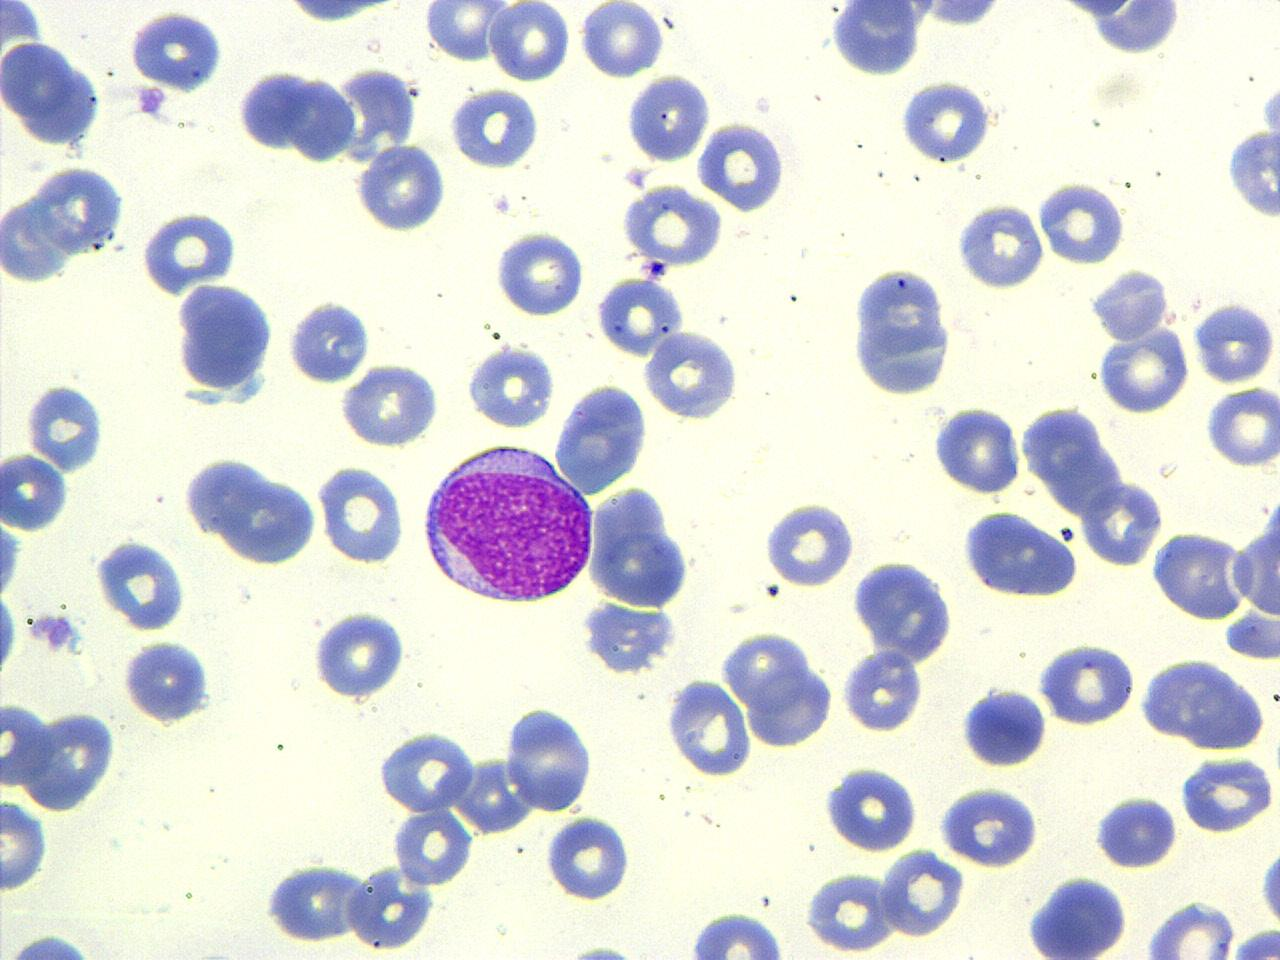Platelets: (138, 204, 243, 294), (352, 141, 449, 234), (128, 8, 231, 93), (285, 295, 374, 385), (1191, 297, 1277, 387), (0, 930, 106, 960), (1255, 840, 1280, 936), (0, 520, 23, 598), (0, 590, 19, 676), (44, 612, 78, 654), (568, 940, 632, 960), (26, 611, 62, 645), (135, 83, 169, 118), (622, 165, 648, 192), (490, 193, 514, 218), (647, 259, 668, 279), (1059, 522, 1075, 542)
RBC: (190, 458, 323, 570), (502, 702, 596, 812), (1146, 525, 1248, 623), (314, 462, 407, 566), (310, 605, 408, 703), (93, 533, 188, 634), (664, 675, 754, 780), (1035, 636, 1135, 730), (140, 204, 242, 296), (620, 182, 726, 268), (939, 783, 1044, 868), (374, 729, 478, 814), (694, 118, 787, 213), (343, 861, 439, 953), (820, 764, 920, 852), (1095, 325, 1193, 414), (126, 7, 226, 94), (494, 227, 588, 319), (931, 404, 1022, 498), (446, 85, 543, 173), (1178, 750, 1276, 836), (624, 70, 712, 164), (464, 343, 558, 431), (1078, 474, 1164, 569), (802, 869, 897, 955), (542, 812, 632, 902), (878, 846, 966, 938), (1037, 179, 1129, 266), (594, 272, 687, 357), (1190, 298, 1276, 386), (359, 144, 449, 228), (839, 647, 924, 735), (578, 0, 666, 81), (390, 803, 473, 888), (488, 1, 571, 84), (1203, 382, 1279, 470), (1140, 899, 1238, 959), (1, 450, 72, 530), (422, 0, 505, 63), (1, 795, 50, 895), (1, 698, 54, 790)
WBC: (0, 0, 682, 329), (414, 435, 598, 610), (1, 158, 130, 294), (178, 450, 322, 568), (583, 476, 695, 616), (722, 624, 842, 754), (848, 262, 958, 398), (822, 0, 1012, 78), (172, 278, 279, 409), (0, 23, 106, 152), (1136, 654, 1270, 754), (850, 555, 958, 668), (552, 379, 653, 496), (958, 506, 1082, 600), (21, 702, 122, 812), (504, 702, 596, 814), (314, 460, 408, 567), (1022, 871, 1134, 960), (337, 358, 444, 451), (640, 326, 743, 422), (1223, 67, 1280, 239), (310, 605, 410, 703), (663, 674, 755, 780), (1229, 472, 1280, 660), (260, 858, 366, 948), (936, 782, 1044, 870), (620, 180, 726, 269), (94, 536, 189, 634), (141, 205, 246, 293), (374, 728, 479, 816), (1096, 324, 1192, 419), (1037, 638, 1137, 728), (822, 764, 922, 854), (356, 140, 450, 235), (762, 497, 858, 590), (955, 197, 1048, 292), (623, 70, 714, 166), (447, 84, 544, 174), (1036, 176, 1132, 266), (696, 117, 786, 213), (119, 636, 215, 726), (542, 810, 634, 902), (464, 342, 557, 433), (346, 858, 436, 952), (22, 378, 111, 473), (896, 76, 992, 164), (1176, 752, 1276, 835), (957, 682, 1049, 772), (285, 294, 372, 388), (1054, 0, 1188, 60), (803, 868, 898, 952), (840, 644, 927, 734), (390, 802, 476, 888), (1092, 792, 1180, 871), (1088, 264, 1174, 343), (1141, 898, 1243, 960), (287, 70, 354, 164), (236, 66, 307, 152), (0, 449, 71, 535), (684, 908, 792, 958), (0, 928, 114, 959), (1256, 838, 1280, 937), (0, 516, 25, 600)
